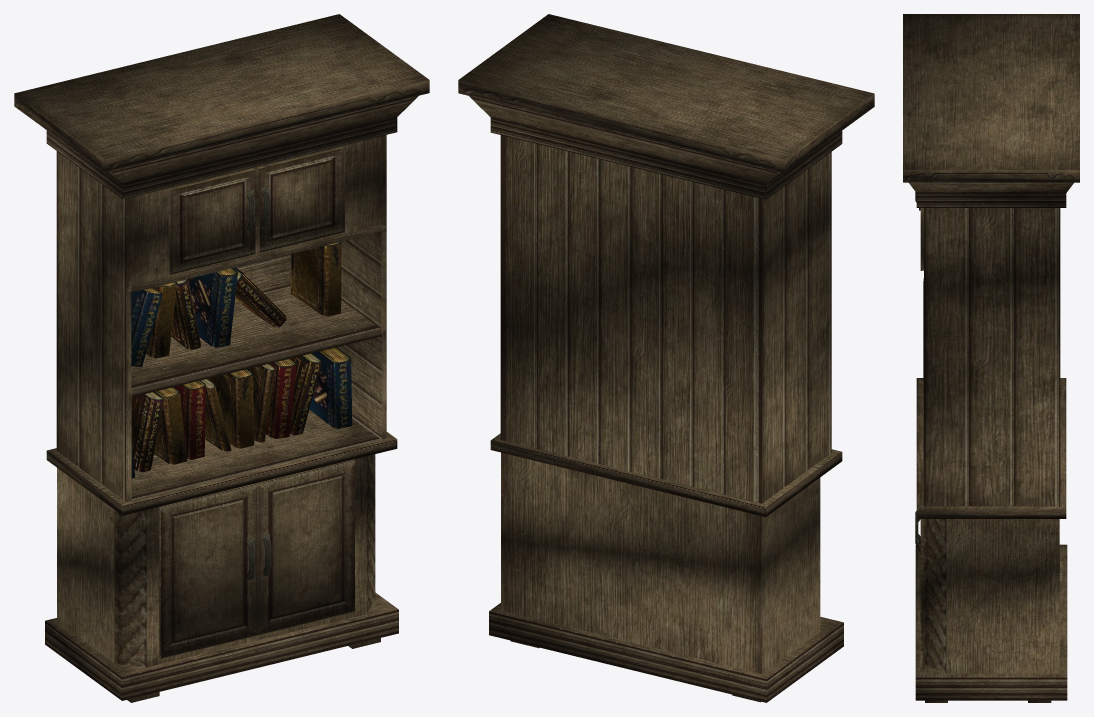
File: GS_VOB_BOOKCASE_BROWN_01_KOZA.glb
3 views of the same model, side by side, from view 1: azimuth 30°, elevation 25°; view 2: azimuth 150°, elevation 25°; view 3: azimuth 270°, elevation 25° (orthographic). The views are drawn at different scales.
Parts seen in each view (by area): view 1: Mesh; view 2: Mesh; view 3: Mesh.
Part boxes in pixels (x1=…): Mesh: x1=14, y1=14, x2=429, y2=702; Mesh: x1=458, y1=14, x2=874, y2=702; Mesh: x1=903, y1=14, x2=1079, y2=702.
Bounding box in the file's own units: 1.41 × 2.33 × 0.6778.
5 materials, 5 textured.
